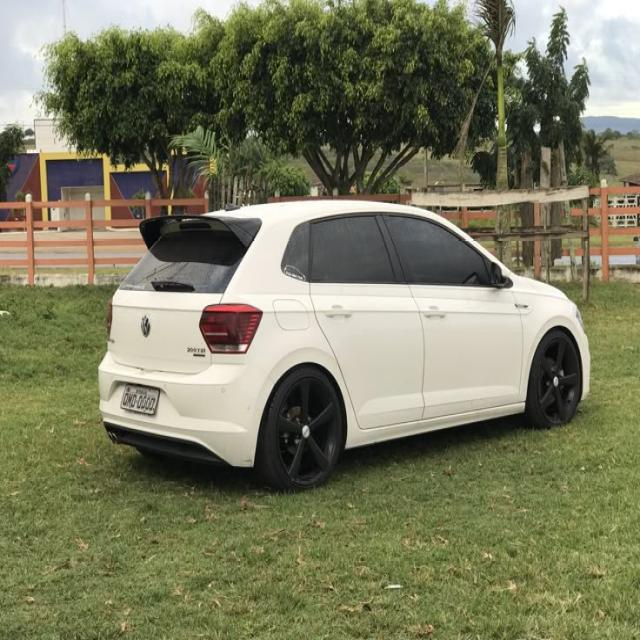Placas: (121, 382, 161, 419)
